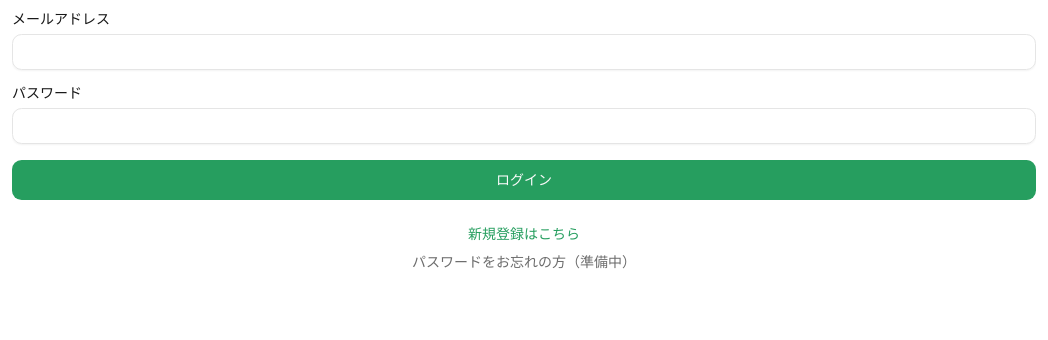
Test: LoginForm › shows the credentials error alert on 401 without revealing which field is wrong
This screenshot has width=1048, height=340.
Type "user@example.com" into the field labelled "メールアドレス" at (524, 52), box [12,34,1036,70]
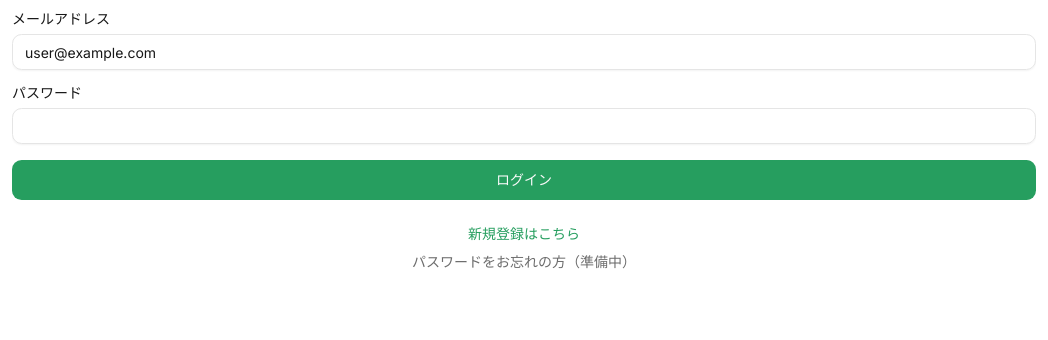
Type "wrong-password" into the password field labelled "パスワード" at (524, 126), box [12,108,1036,144]
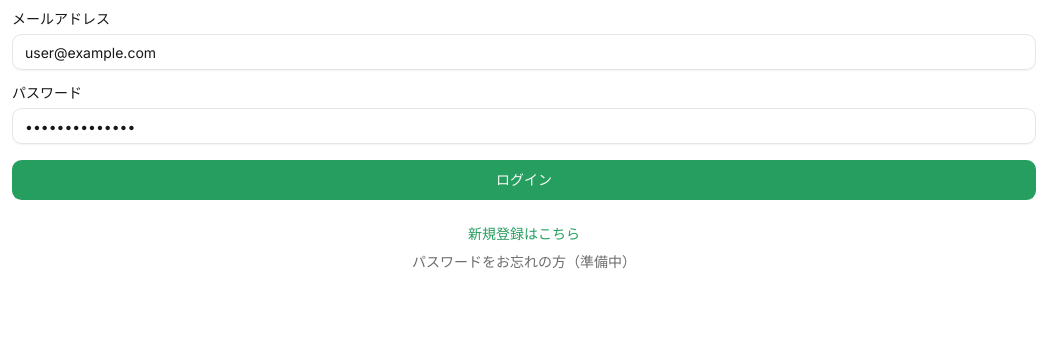
Click the button "ログイン" at (524, 180), box [12,160,1036,200]
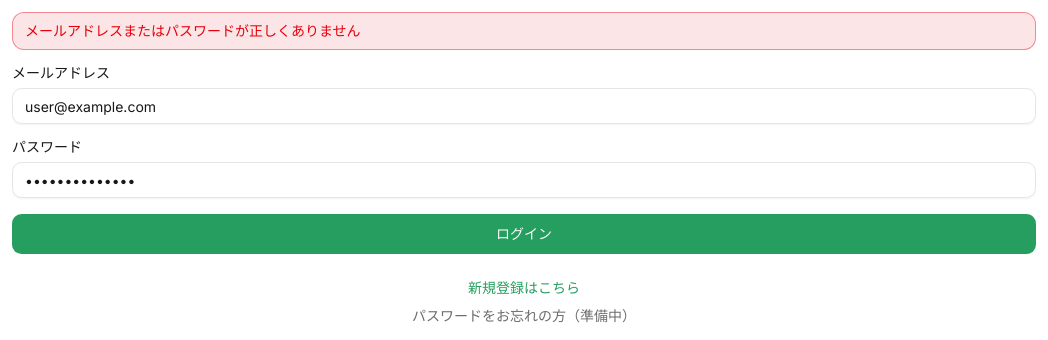
Expected: the message reads "メールアドレスまたはパスワードが正しくありません", [25,22,361,39]
